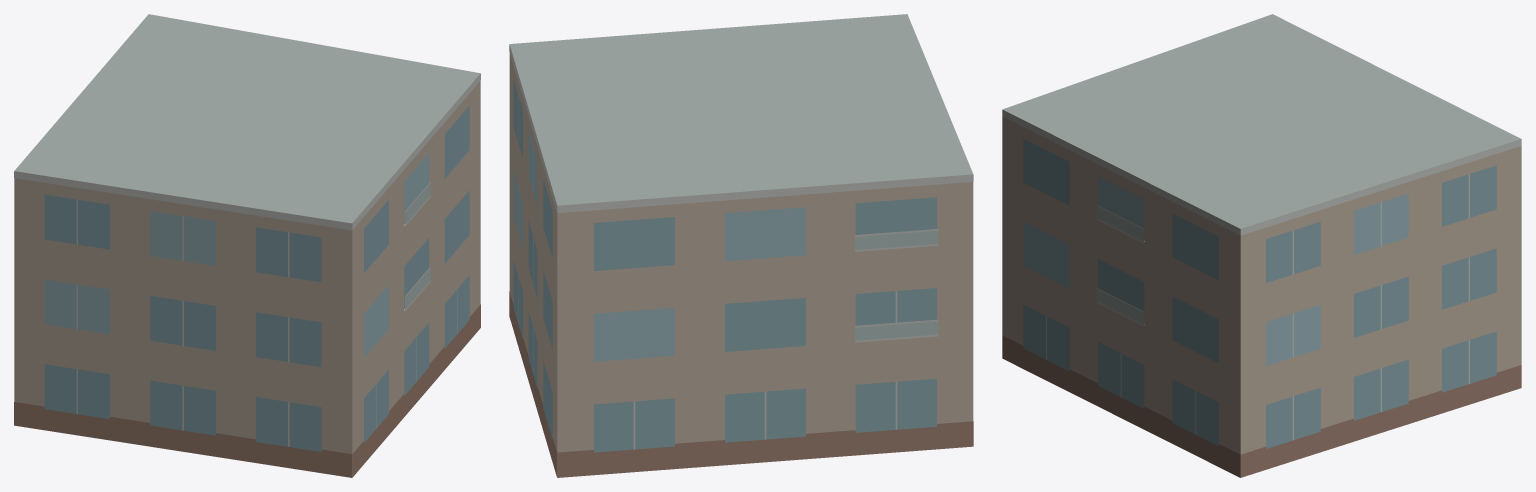
The model's file is survey-upis-32643454.glb.
3 renders of one model, left to right at view 1: azimuth 30°, elevation 25°; view 2: azimuth 150°, elevation 25°; view 3: azimuth 270°, elevation 25°, orthographic. The views are drawn at different scales.
Visible parts, largest first — view 1: survey-upis-32643454.tmp; view 2: survey-upis-32643454.tmp; view 3: survey-upis-32643454.tmp.
Boxes of the visible parts, x1=… form: survey-upis-32643454.tmp: x1=14, y1=14, x2=480, y2=477; survey-upis-32643454.tmp: x1=509, y1=14, x2=973, y2=477; survey-upis-32643454.tmp: x1=1002, y1=14, x2=1521, y2=477.
Bounding box in the file's own units: 16.49 × 8.9 × 16.84.
